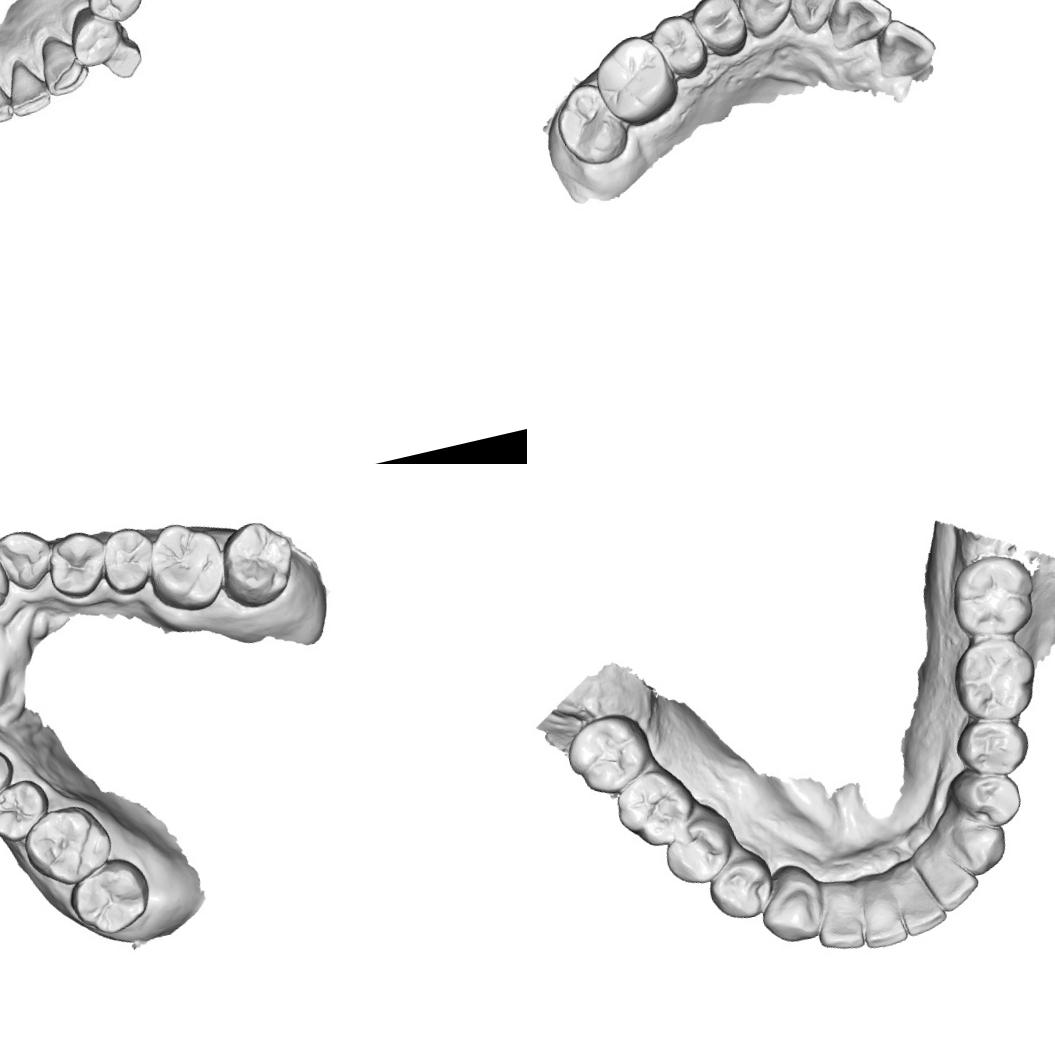canine: (754, 869, 832, 952), (942, 810, 1014, 884), (30, 25, 92, 103), (0, 521, 60, 595), (731, 0, 799, 43)
incisor: (868, 10, 943, 82), (852, 881, 912, 952), (808, 890, 870, 958), (821, 0, 898, 51), (927, 848, 984, 916), (892, 876, 950, 942), (2, 55, 49, 112), (783, 0, 846, 38), (0, 545, 14, 616), (0, 70, 13, 126)
molar: (587, 28, 686, 134), (138, 514, 235, 621), (942, 546, 1046, 645), (558, 705, 661, 804), (946, 627, 1044, 731), (17, 798, 120, 895), (210, 514, 304, 616), (608, 761, 703, 858), (62, 850, 158, 942), (549, 77, 634, 174)
premolar: (948, 708, 1036, 786), (657, 812, 739, 891), (945, 760, 1028, 837), (704, 849, 782, 928), (41, 527, 115, 605), (94, 523, 163, 600), (647, 8, 713, 86), (0, 774, 57, 848), (687, 0, 753, 63), (70, 8, 125, 66), (0, 741, 23, 818), (82, 0, 147, 25)
